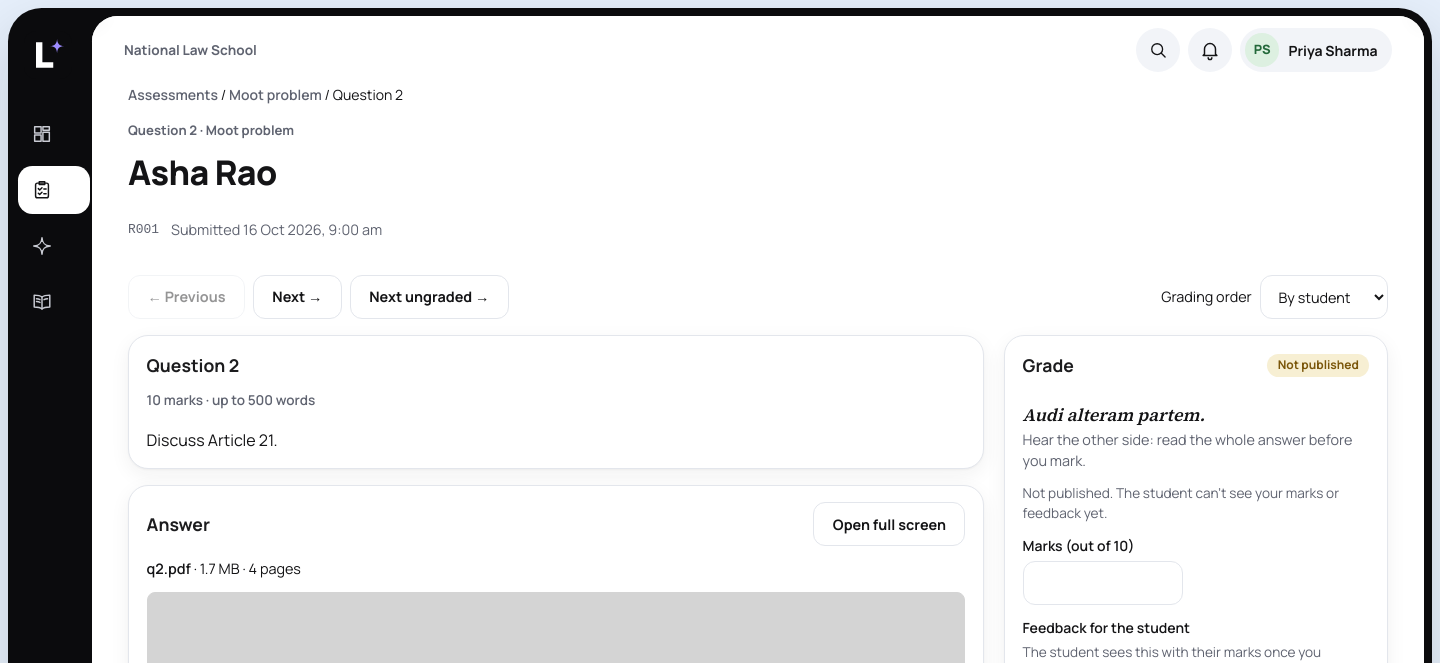
grading flow and history (F4.3, F4.4) › asks before moving on with unsaved changes
In the number field labelled "Marks (out of 10)": (1103, 583) [1023,561,1183,605], type "3"
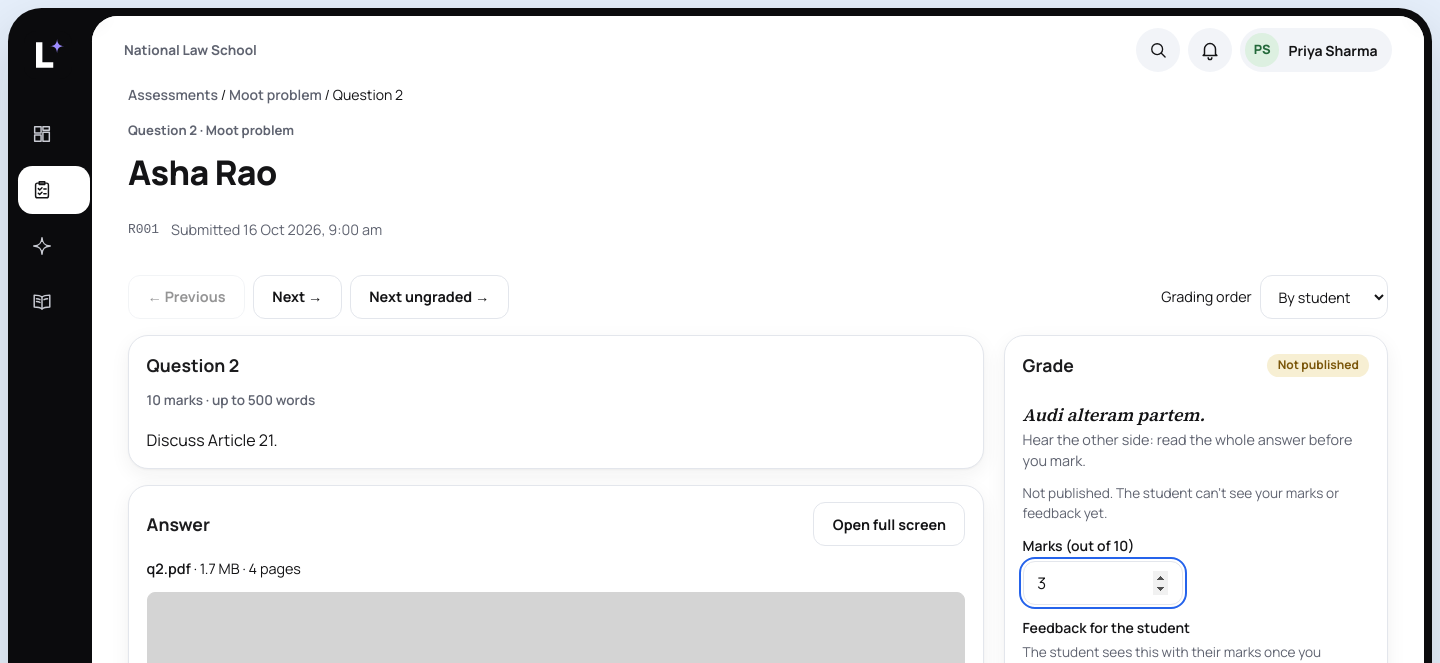
Click the link "Next →": (297, 297) [253,275,342,319]
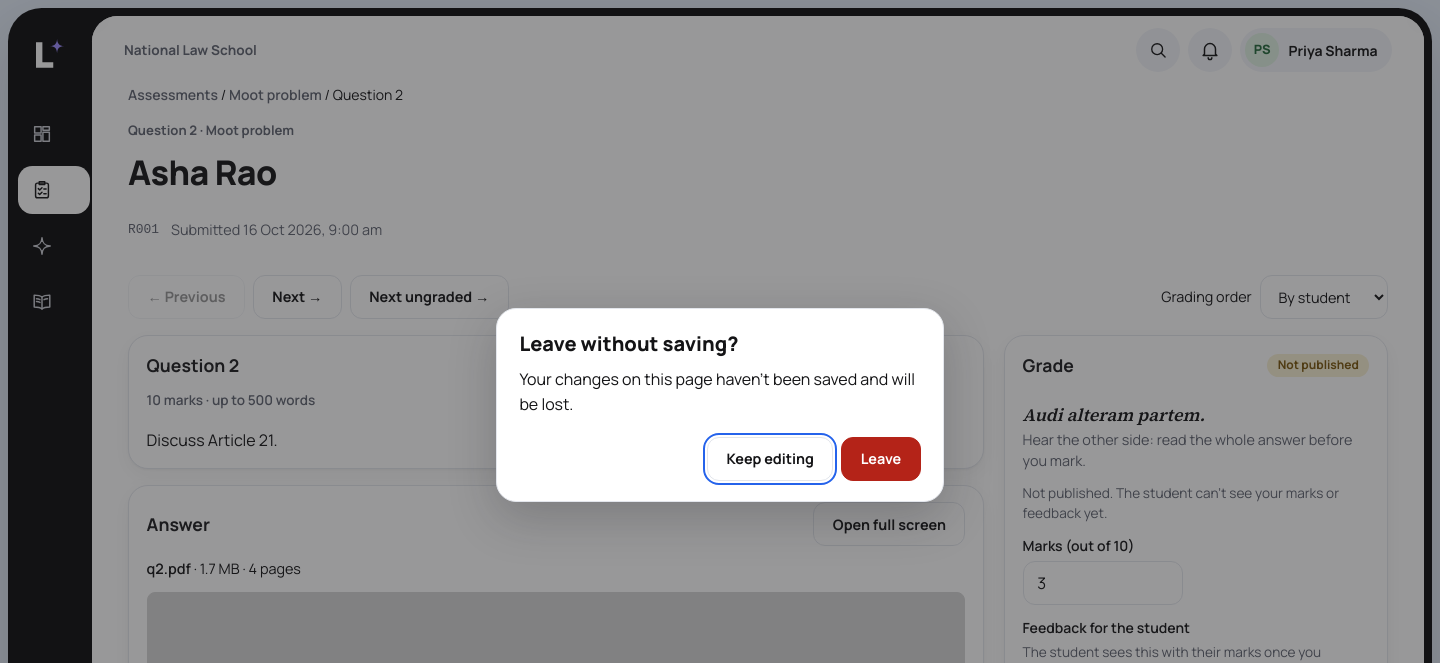
Result: the dialog "Leave without saving?" is shown at [496,308,944,502]
